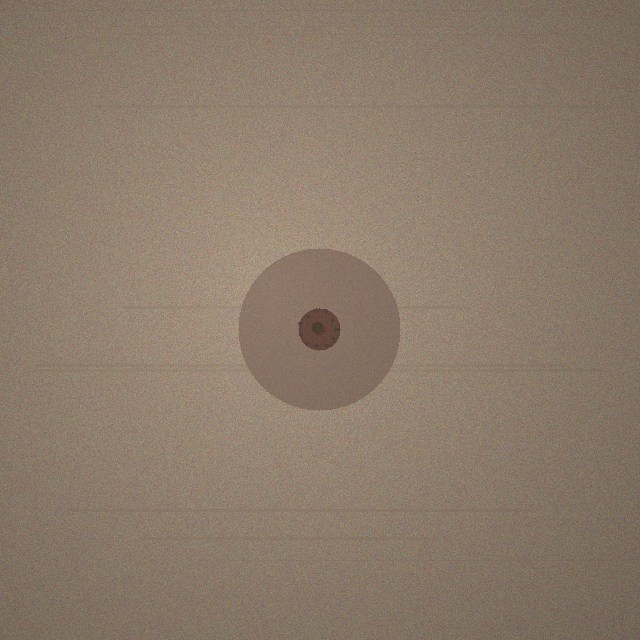cold_weld: (238, 248, 400, 410)
